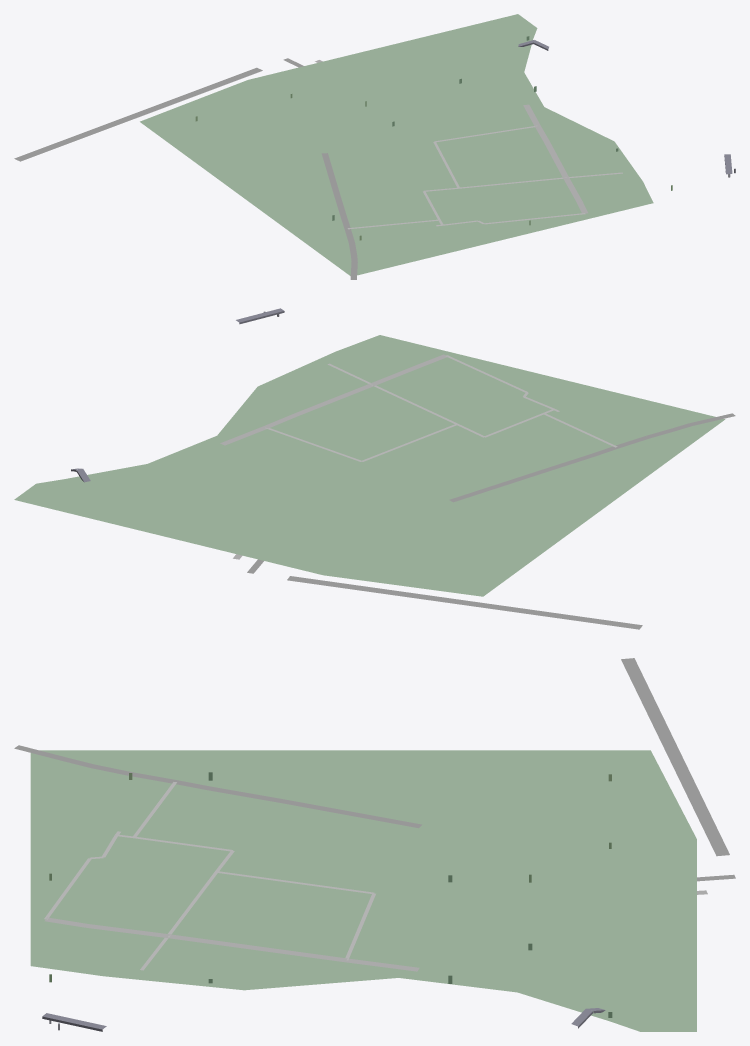
3 views of the same model, one above another, from view 1: azimuth 30°, elevation 25°; view 2: azimuth 150°, elevation 25°; view 3: azimuth 270°, elevation 25° (orthographic). The views are drawn at different scales.
Bounding box in the file's own units: 678 × 11.12 × 542.
